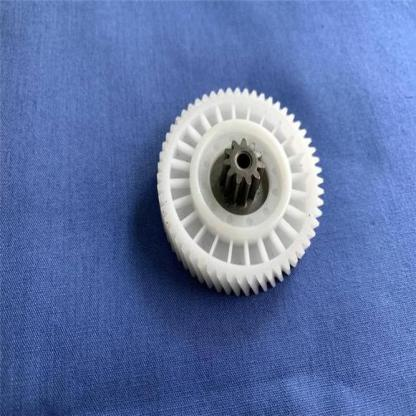FOD: (153, 82, 328, 302)
